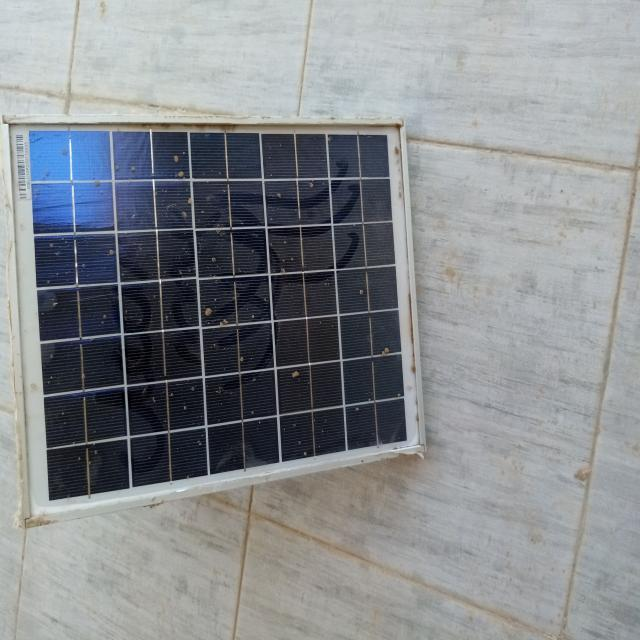faulty: (4, 120, 424, 526)
